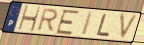E: (55, 9, 82, 36)
H: (16, 5, 42, 33)
I: (80, 11, 95, 37)
L: (95, 13, 111, 38)
R: (35, 8, 60, 33)
V: (119, 12, 140, 42)
